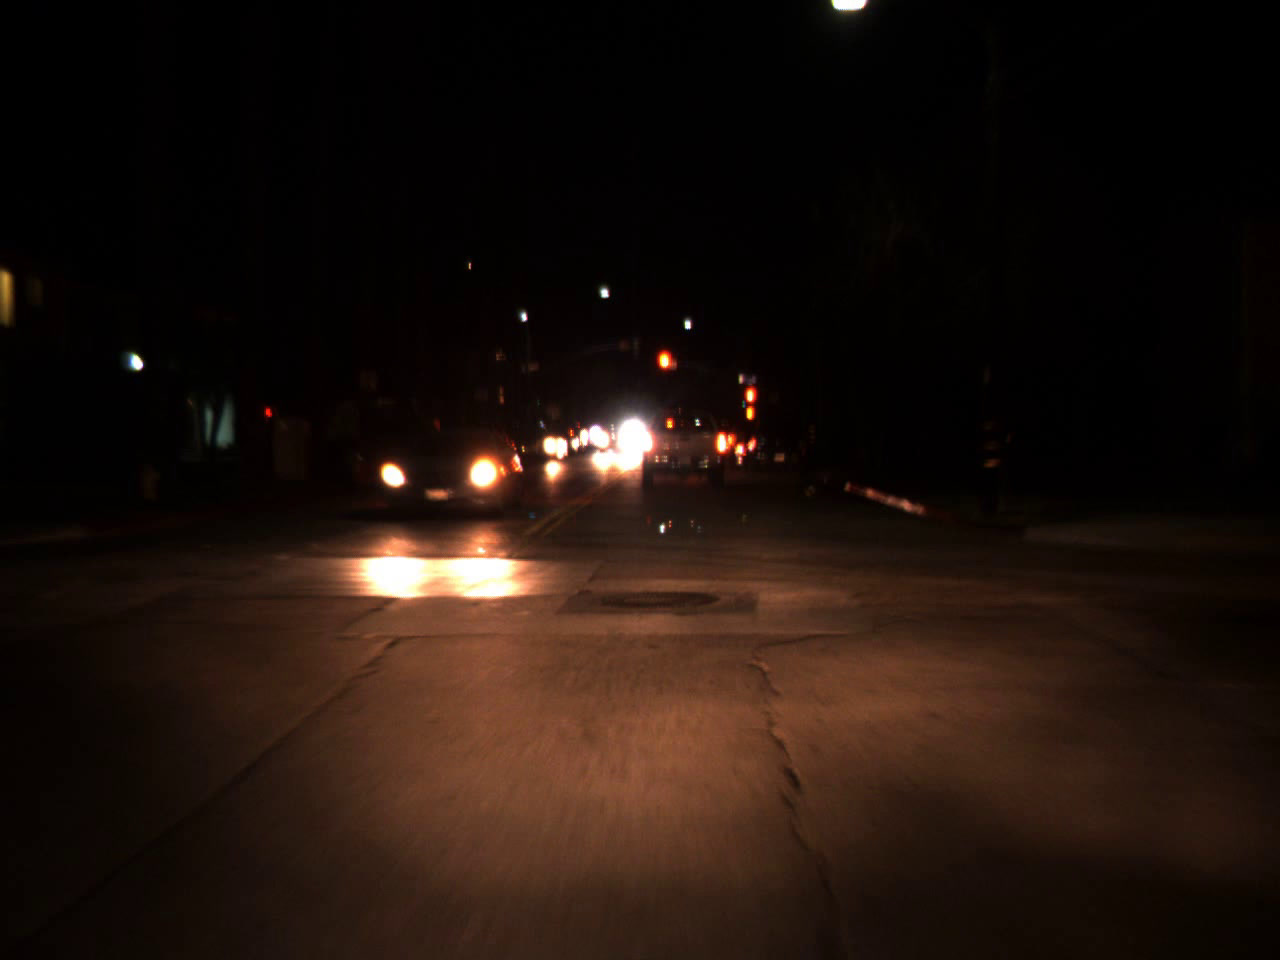stop: (654, 348, 675, 391), (744, 387, 757, 419)
